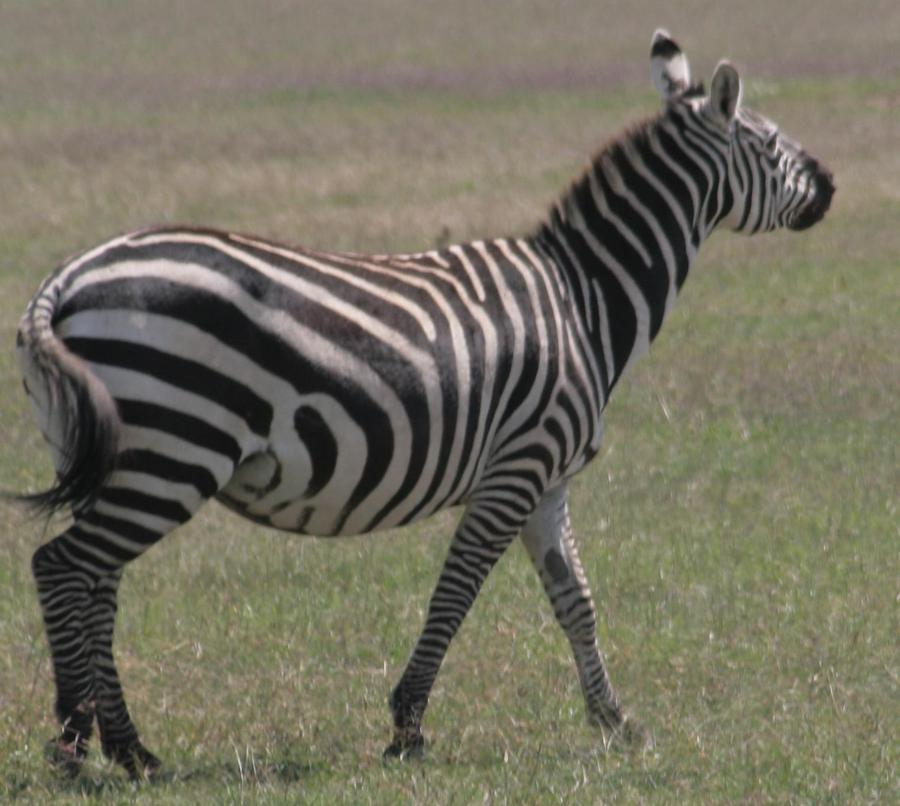zebra_plains: (56, 200, 629, 557)
